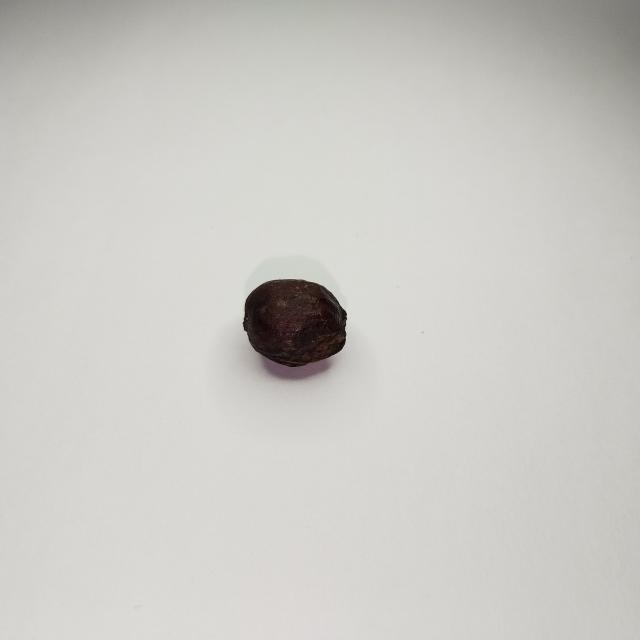Danado: (243, 279, 346, 367)
